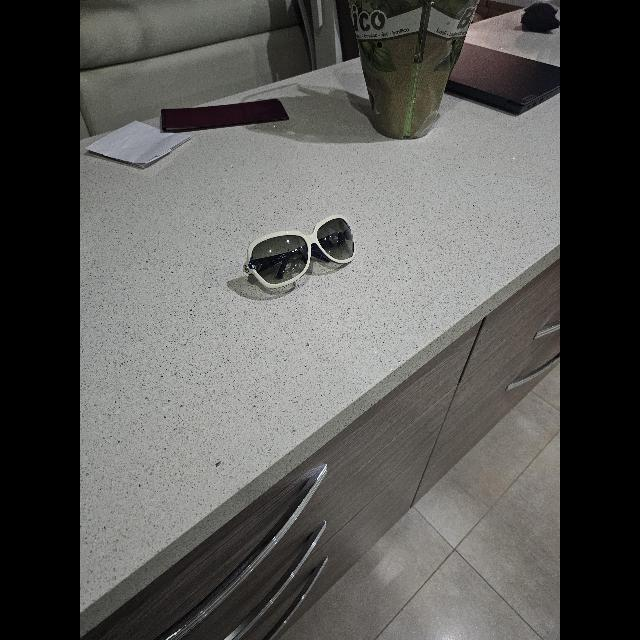Sunglasses: (243, 215, 355, 289)
